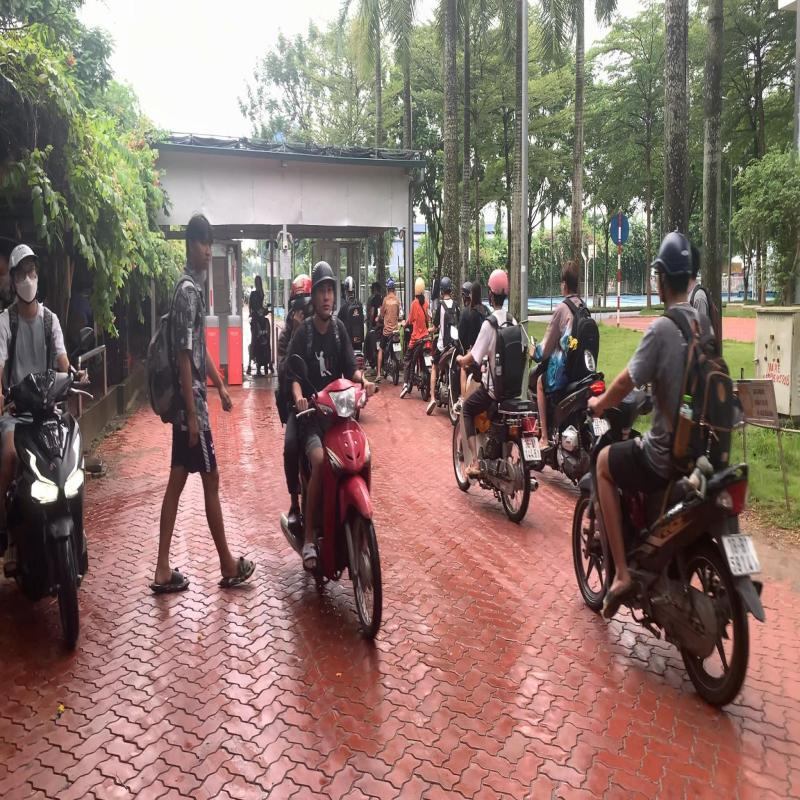nohelmet: (560, 259, 580, 297), (470, 278, 483, 302)
